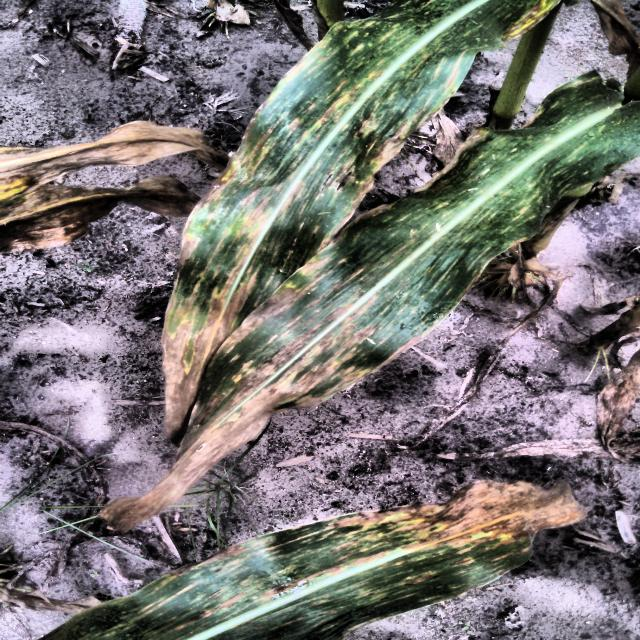blight: (163, 3, 569, 443)
